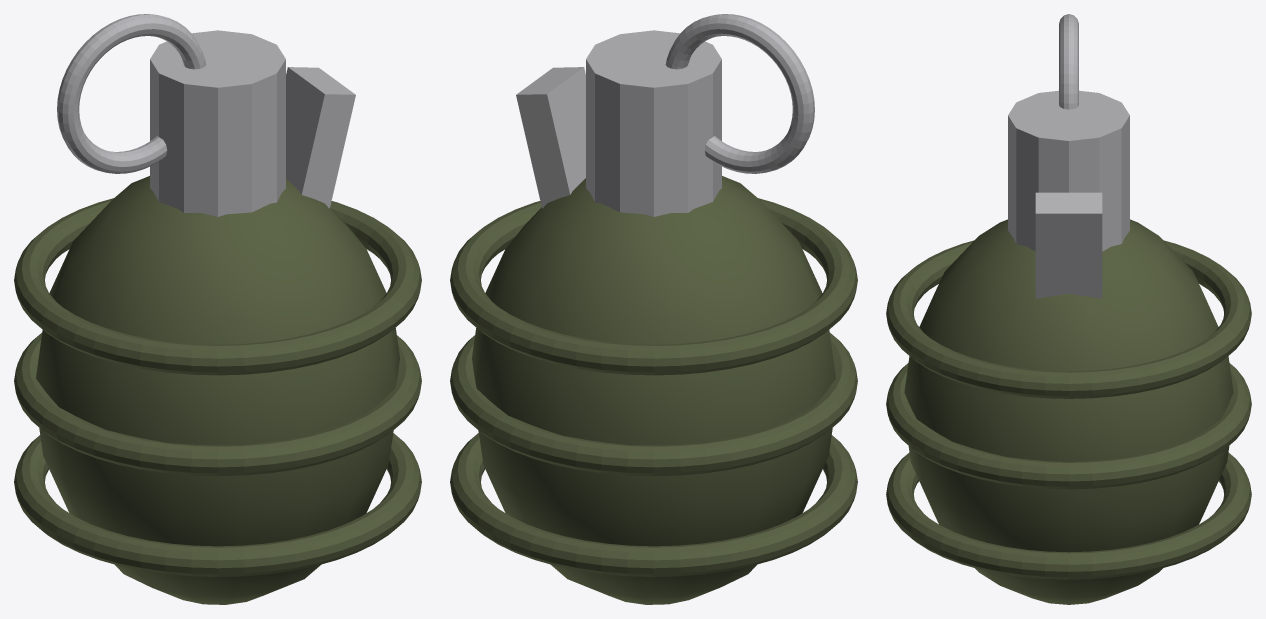
File: grenade_world.glb
3 renders of one model, left to right at view 1: azimuth 30°, elevation 25°; view 2: azimuth 150°, elevation 25°; view 3: azimuth 270°, elevation 25°, orthographic. The views are drawn at different scales.
Visible parts, largest first — view 1: Sphere, Cylinder, Torus.002, Torus, Torus.001, Torus.003, Cube; view 2: Sphere, Cylinder, Torus.002, Torus, Torus.001, Torus.003, Cube; view 3: Sphere, Torus.002, Cylinder, Torus, Torus.001, Cube, Torus.003.
Boxes of the visible parts, box(x1,y1,x2,y2) form: Sphere: box(36, 176, 399, 604); Cylinder: box(150, 30, 285, 216); Torus.002: box(14, 198, 421, 375); Torus: box(14, 433, 421, 576); Torus.001: box(14, 332, 421, 476); Torus.003: box(57, 14, 206, 173); Cube: box(286, 67, 355, 208); Sphere: box(472, 176, 835, 604); Cylinder: box(586, 30, 721, 216); Torus.002: box(450, 198, 857, 375); Torus: box(450, 433, 857, 576); Torus.001: box(450, 332, 857, 476); Torus.003: box(665, 14, 814, 173); Cube: box(516, 67, 585, 208); Sphere: box(904, 219, 1233, 604); Torus.002: box(886, 240, 1251, 398); Cylinder: box(1008, 90, 1129, 251); Torus: box(886, 452, 1251, 579); Torus.001: box(886, 363, 1251, 489); Cube: box(1035, 192, 1102, 298); Torus.003: box(1059, 14, 1078, 109).
Size of the model in its own units: 0.066 by 0.1063 by 0.066.
